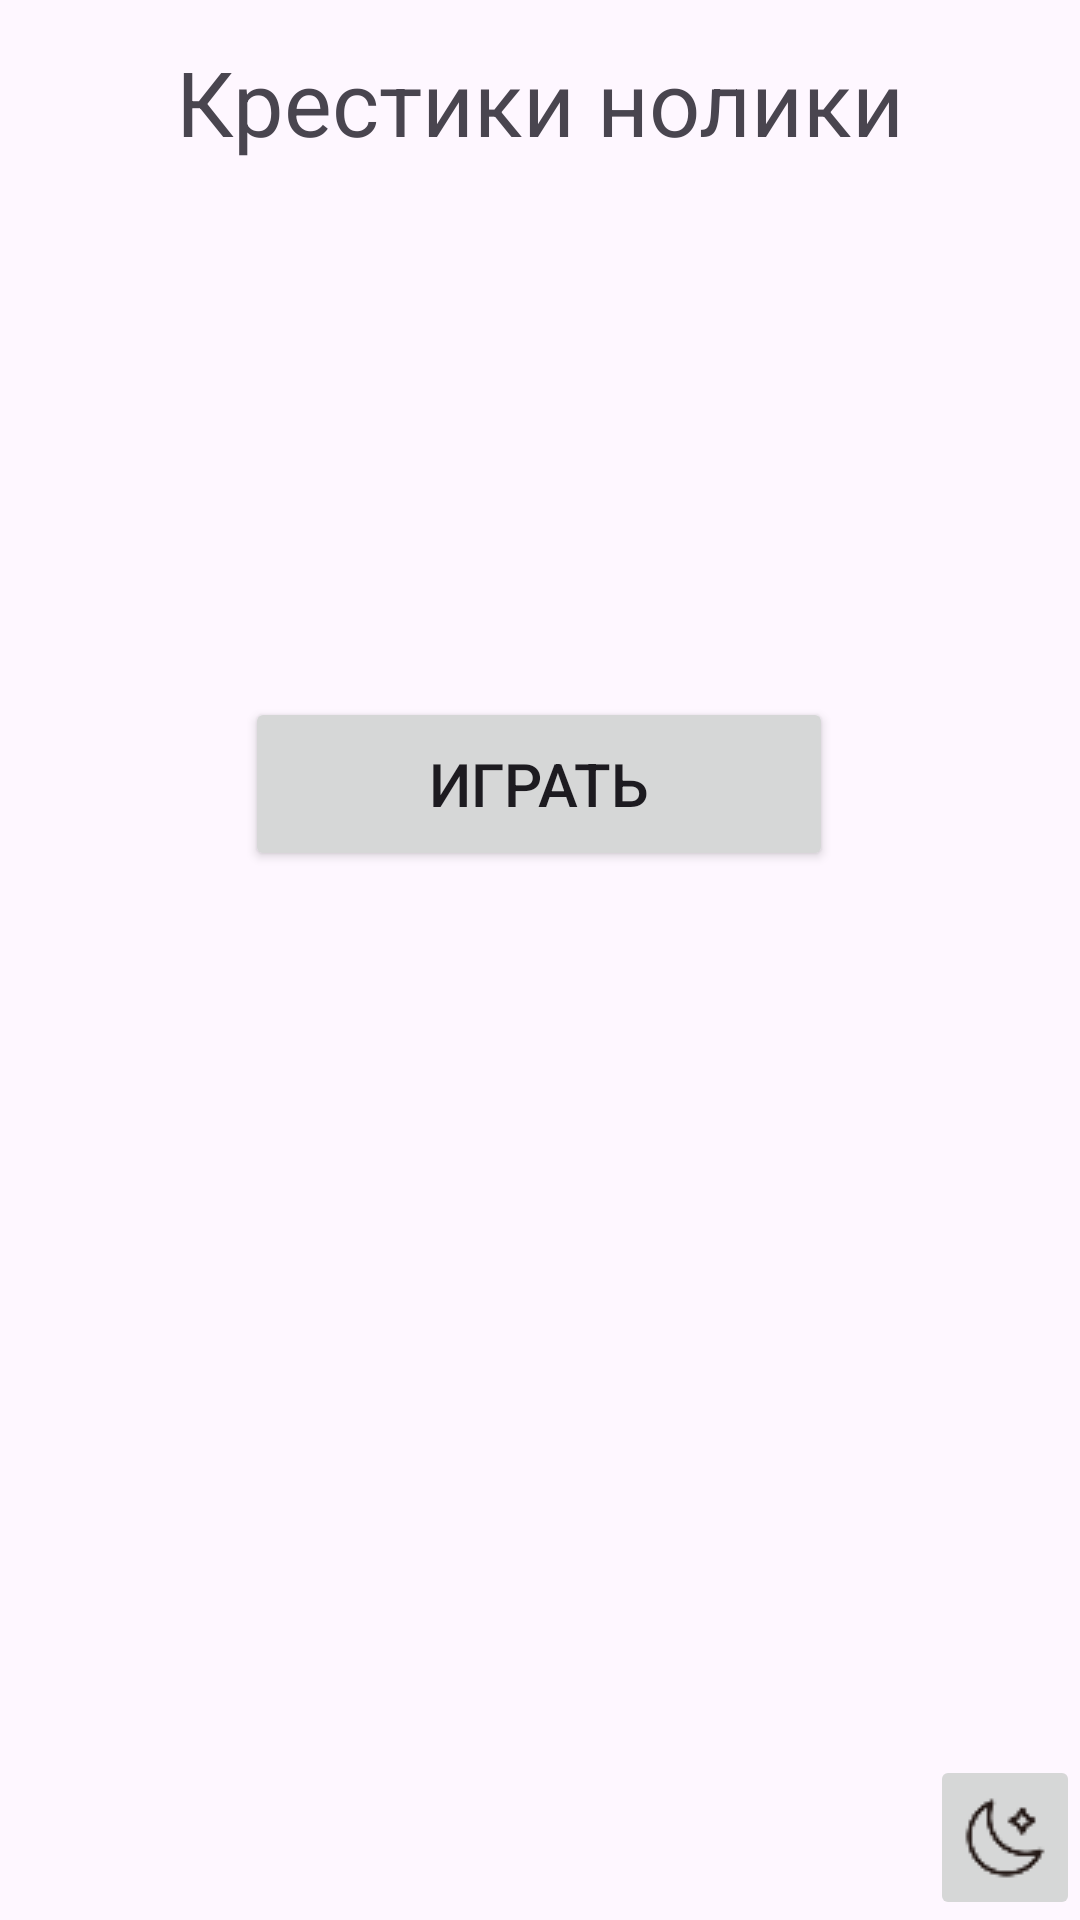

Where icons sit on this 1080*1920 app screen, as (x1, y1, x2, y2):
moon: (942, 1773, 1068, 1902)
